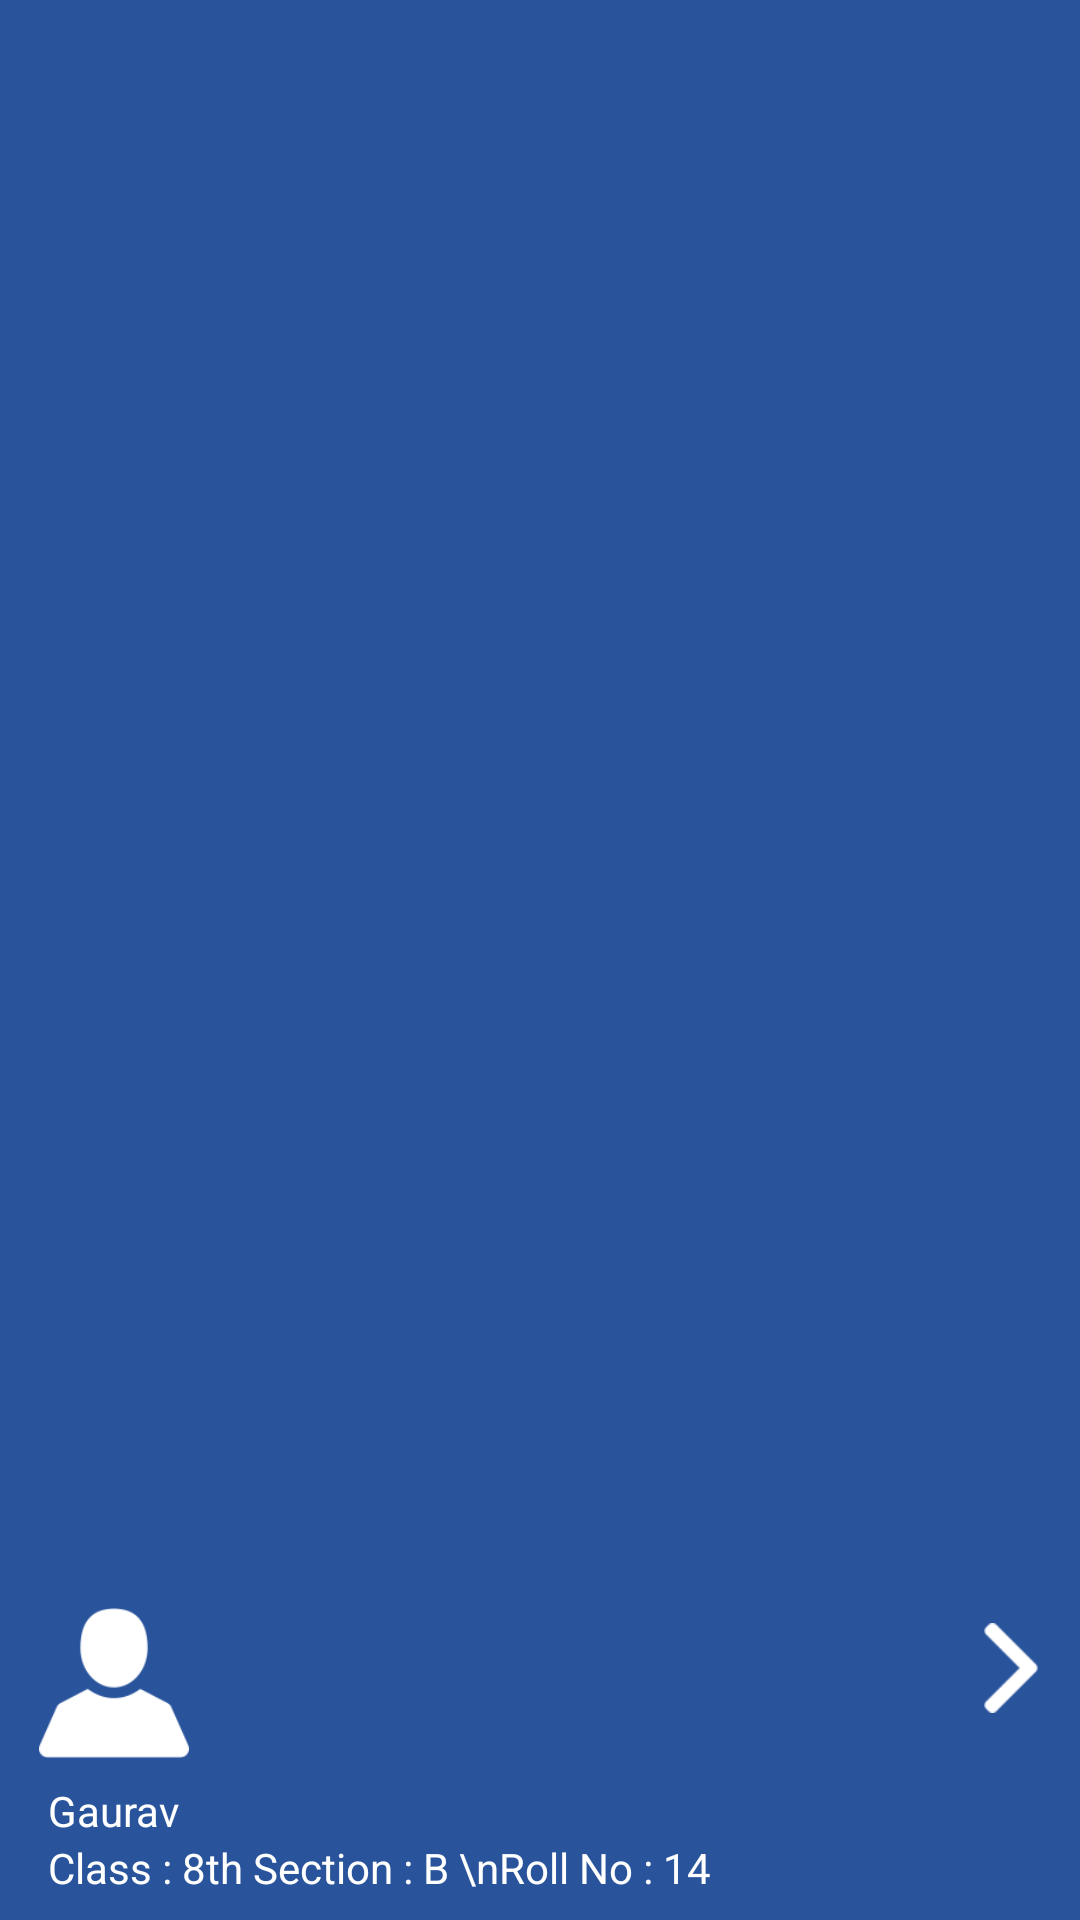

Where to tap for icons on this 1080 x 1920 app screen, as [x,y]:
right arrow: [1011,1668]
